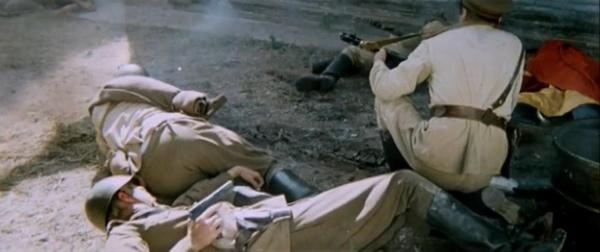Gun: (188, 179, 235, 222)
